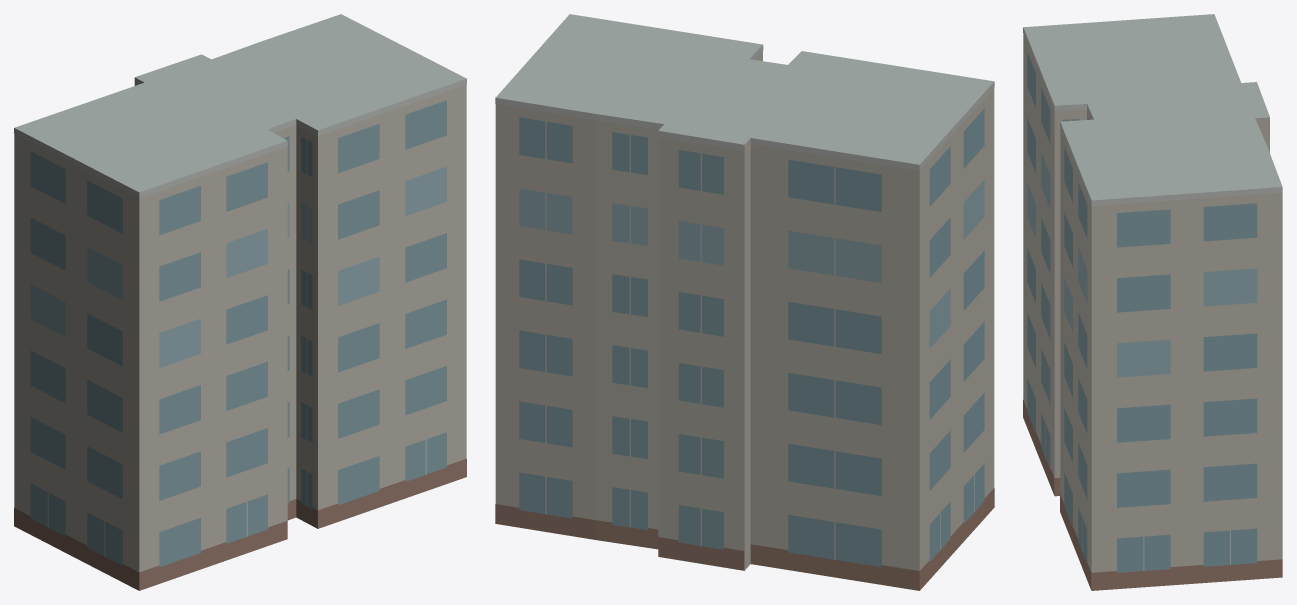
File: survey-upis-32906990.glb
3 renders of one model, left to right at view 1: azimuth 30°, elevation 25°; view 2: azimuth 150°, elevation 25°; view 3: azimuth 270°, elevation 25°, orthographic. The views are drawn at different scales.
Visible parts, largest first — view 1: survey-upis-32906990.tmp; view 2: survey-upis-32906990.tmp; view 3: survey-upis-32906990.tmp.
Boxes of the visible parts, <box> form: survey-upis-32906990.tmp: <box>14,14,466,590</box>; survey-upis-32906990.tmp: <box>495,14,994,590</box>; survey-upis-32906990.tmp: <box>1023,14,1282,590</box>.
Bounding box in the file's own units: 17.11 × 16.7 × 10.07.
